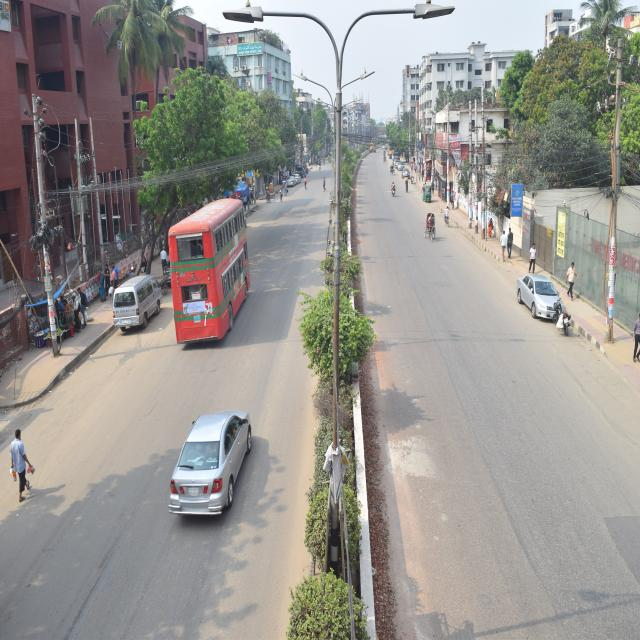bus: (156, 191, 256, 338)
car: (166, 411, 256, 516), (511, 269, 562, 333), (291, 167, 302, 186), (285, 174, 292, 191)
microbus: (107, 260, 166, 330)
motorbike: (545, 297, 577, 336)
